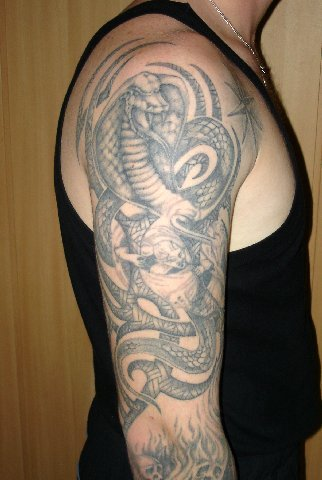tatu4_zvezda: (217, 68, 267, 149)
tatu7_zmeya: (83, 54, 241, 313)
